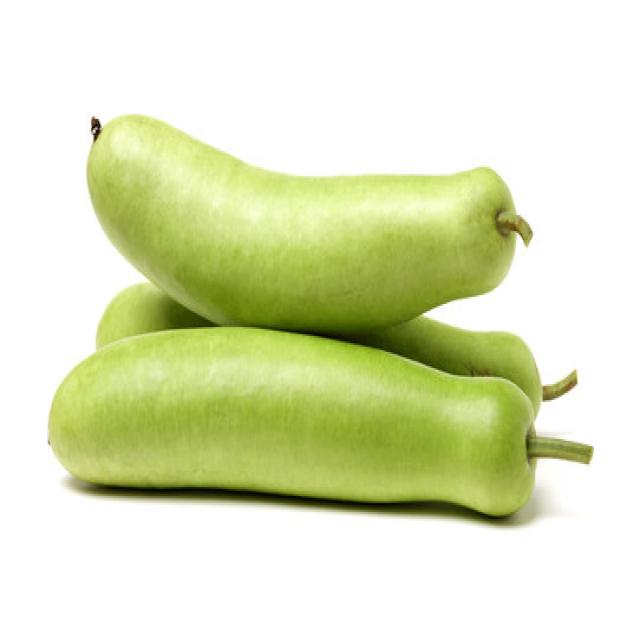Bottle Gourd: (47, 323, 593, 518), (85, 110, 533, 332), (95, 279, 578, 418)
Carrot: (362, 314, 578, 418)
